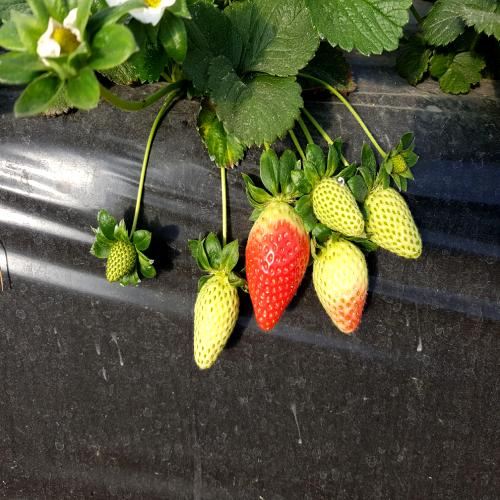partially-ripe: (243, 193, 310, 333), (314, 235, 375, 346)
